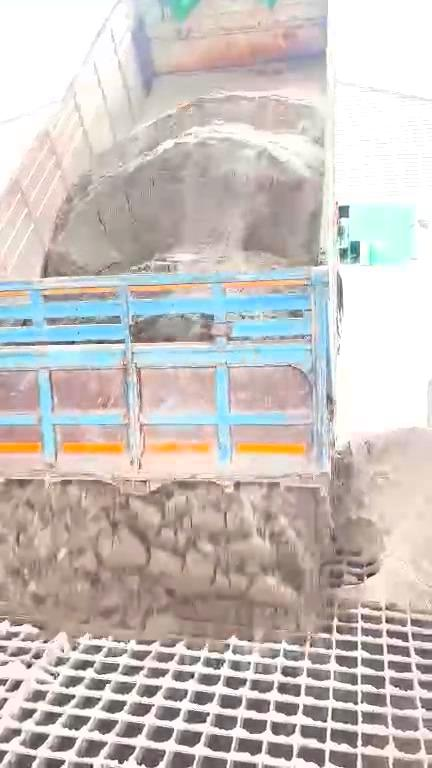sand: (2, 480, 331, 639), (46, 94, 324, 273), (334, 428, 432, 609)
